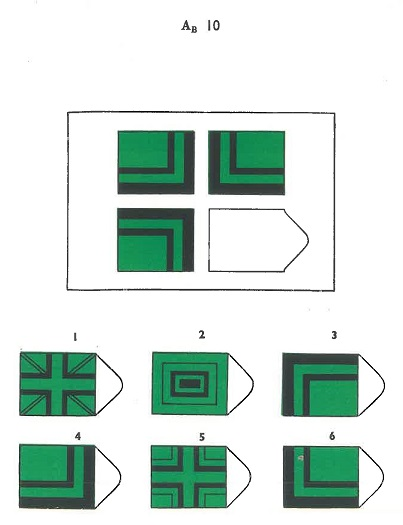Array 1: (15, 329, 126, 420)
Array 2: (146, 326, 258, 419)
Array 3: (278, 327, 388, 420)
Array 4: (15, 426, 126, 512)
Array 5: (146, 426, 258, 512)
Array 6: (279, 427, 389, 514)
Matrix 1: (113, 127, 198, 199)
Matrix 2: (204, 126, 289, 199)
Matrix 3: (112, 204, 199, 276)
Matrix Unknown: (204, 203, 312, 277)
